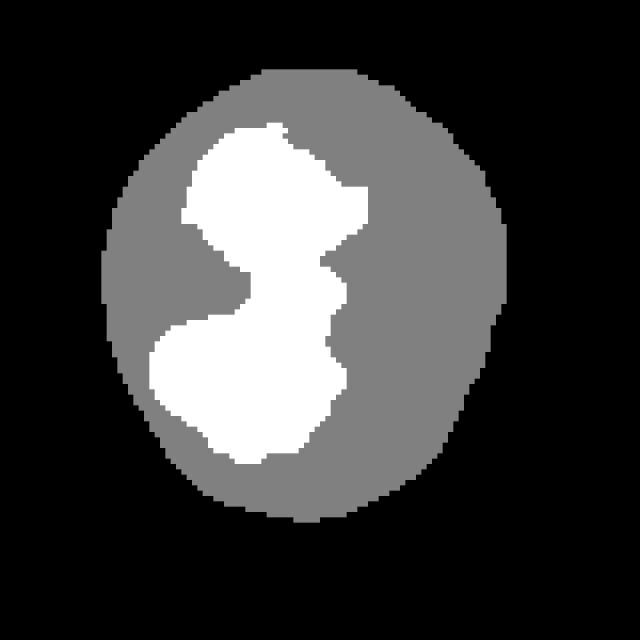WBC: (64, 59, 544, 549)
